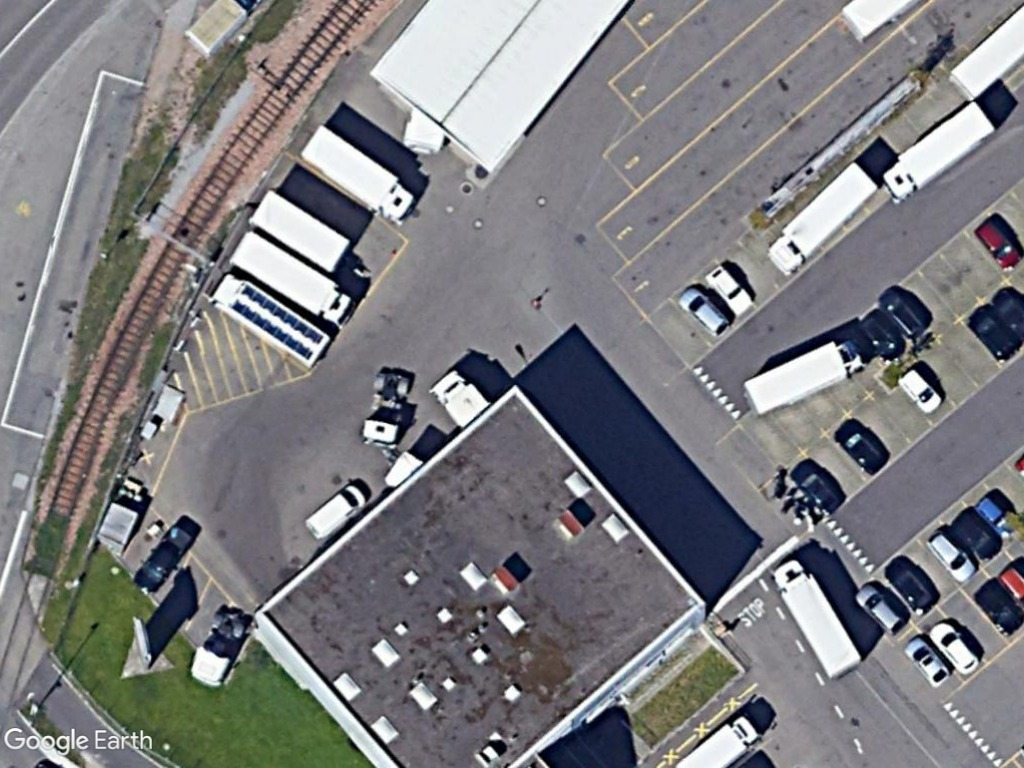car: (929, 618, 982, 676), (676, 287, 733, 340), (923, 531, 979, 584), (703, 261, 756, 316), (901, 636, 953, 689), (971, 217, 1023, 269), (855, 582, 904, 634), (896, 368, 943, 415)
truck: (756, 163, 878, 279), (876, 99, 997, 207), (226, 229, 356, 327), (293, 124, 418, 225), (740, 330, 866, 421), (771, 558, 863, 682)
van: (302, 479, 369, 542)
